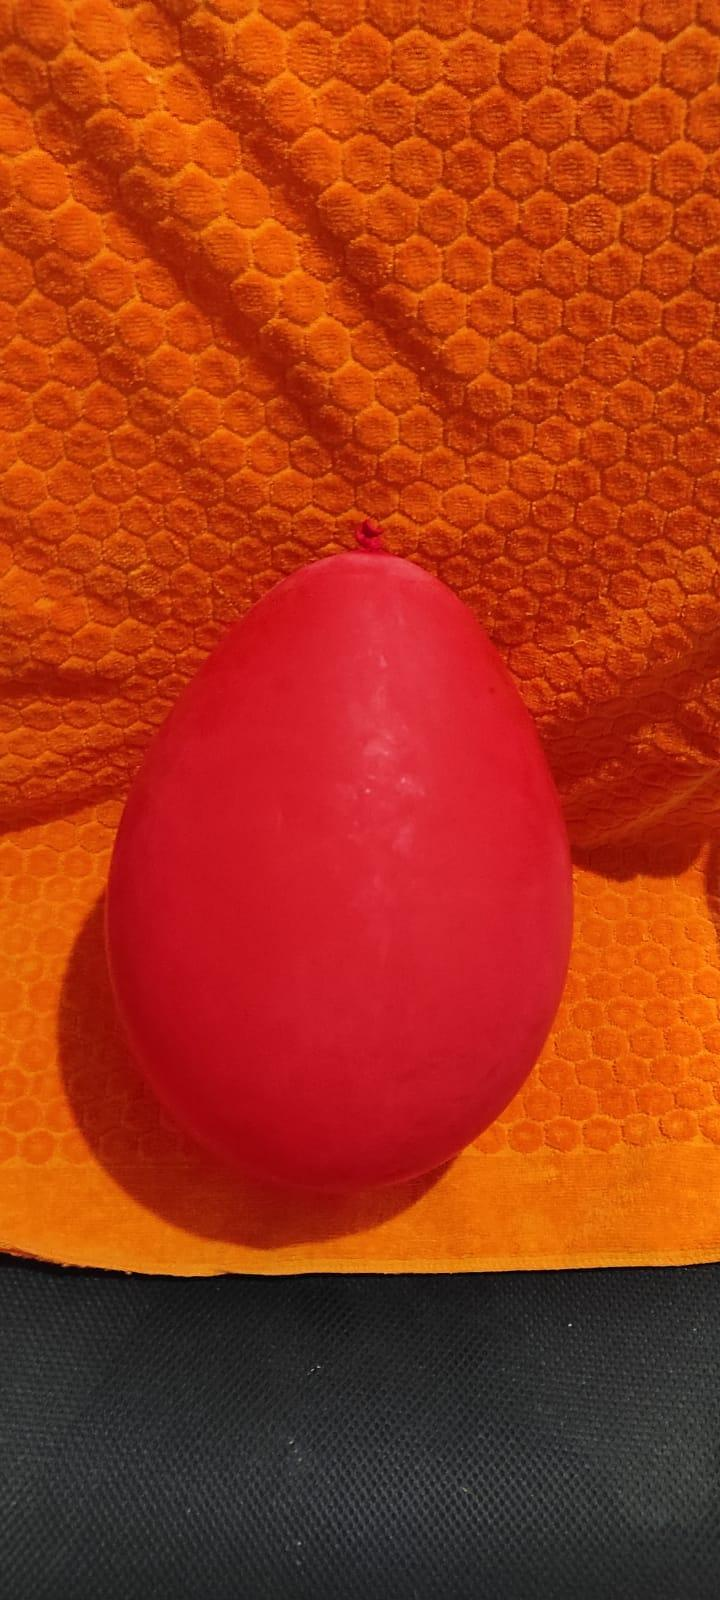red: (91, 504, 583, 1196)
